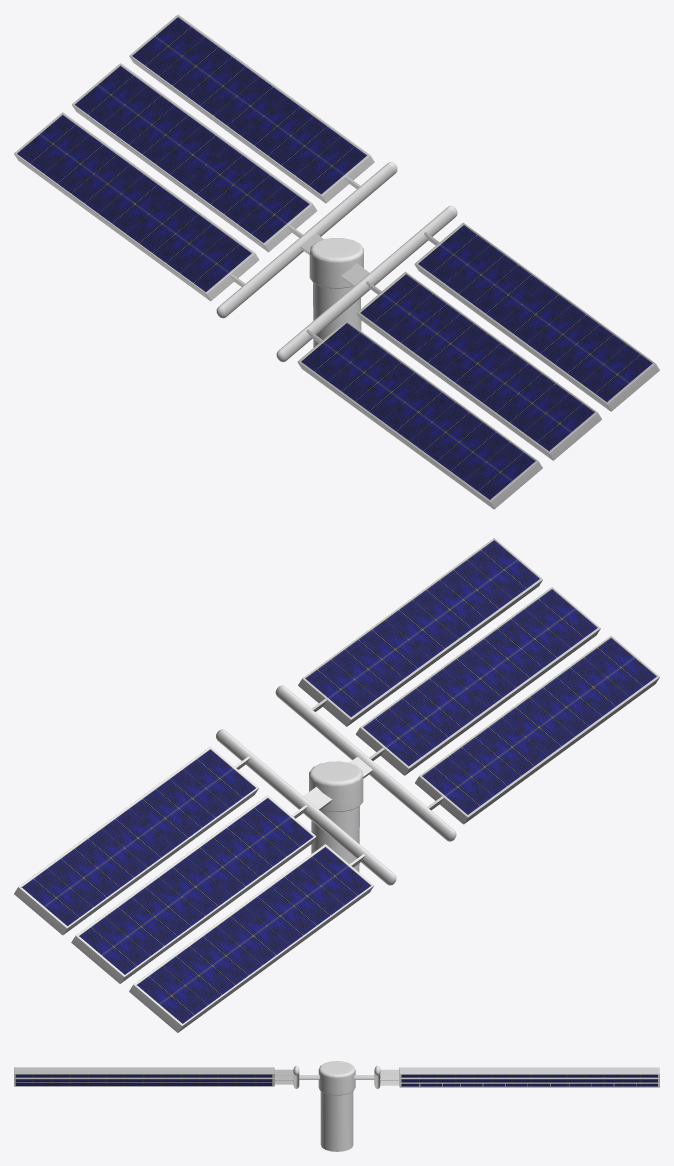
The model's file is Electrical_Pre_Dmg.fbx.
The picture shows the model from 3 angles, top to bottom: view 1: azimuth 30°, elevation 25°; view 2: azimuth 150°, elevation 25°; view 3: azimuth 270°, elevation 25°; orthographic projection. The views are drawn at different scales.
Parts seen in each view (by area): view 1: Left_Solar_Panels_Solar_Panel1_SolarPanel1, Left_Solar_Panels_Solar_Panel1_SolarPanel, Left_Solar_Panels_Solar_Panel5_SolarPanel, Right_Solar_Panels_Solar_Panel1_SolarPanel, Right_Solar_Panels_Solar_Panel3_SolarPanel, Right_Solar_Panels_Solar_Panel5_SolarPanel, Central_System, Right_Support, Left_Support; view 2: Right_Solar_Panels_Solar_Panel5_SolarPanel, Right_Solar_Panels_Solar_Panel3_SolarPanel, Right_Solar_Panels_Solar_Panel1_SolarPanel, Left_Solar_Panels_Solar_Panel1_SolarPanel1, Left_Solar_Panels_Solar_Panel5_SolarPanel, Left_Solar_Panels_Solar_Panel1_SolarPanel, Central_System, Left_Support, Right_Support; view 3: Right_Solar_Panels_Solar_Panel3_SolarPanel, Left_Solar_Panels_Solar_Panel5_SolarPanel, Central_System, Right_Solar_Panels_Solar_Panel5_SolarPanel, Left_Solar_Panels_Solar_Panel1_SolarPanel, Right_Solar_Panels_Solar_Panel1_SolarPanel, Left_Solar_Panels_Solar_Panel1_SolarPanel1, Right_Support, Left_Support.
Part boxes in pixels (<box>): Left_Solar_Panels_Solar_Panel1_SolarPanel1: <box>297,320,542,509</box>; Left_Solar_Panels_Solar_Panel1_SolarPanel: <box>356,271,601,460</box>; Left_Solar_Panels_Solar_Panel5_SolarPanel: <box>414,222,659,411</box>; Right_Solar_Panels_Solar_Panel1_SolarPanel: <box>72,63,317,252</box>; Right_Solar_Panels_Solar_Panel3_SolarPanel: <box>129,14,374,203</box>; Right_Solar_Panels_Solar_Panel5_SolarPanel: <box>14,112,259,301</box>; Central_System: <box>309,238,363,347</box>; Right_Support: <box>276,205,457,362</box>; Left_Support: <box>216,162,397,318</box>; Right_Solar_Panels_Solar_Panel5_SolarPanel: <box>129,844,373,1032</box>; Right_Solar_Panels_Solar_Panel3_SolarPanel: <box>14,746,258,935</box>; Right_Solar_Panels_Solar_Panel1_SolarPanel: <box>71,795,316,983</box>; Left_Solar_Panels_Solar_Panel1_SolarPanel1: <box>415,635,659,824</box>; Left_Solar_Panels_Solar_Panel5_SolarPanel: <box>298,538,542,726</box>; Left_Solar_Panels_Solar_Panel1_SolarPanel: <box>356,587,600,775</box>; Central_System: <box>309,761,363,872</box>; Left_Support: <box>216,729,396,885</box>; Right_Support: <box>275,685,456,841</box>; Right_Solar_Panels_Solar_Panel3_SolarPanel: <box>380,1067,659,1078</box>; Left_Solar_Panels_Solar_Panel5_SolarPanel: <box>14,1067,293,1078</box>; Central_System: <box>318,1061,355,1151</box>; Right_Solar_Panels_Solar_Panel5_SolarPanel: <box>380,1080,659,1087</box>; Left_Solar_Panels_Solar_Panel1_SolarPanel: <box>14,1076,293,1082</box>; Right_Solar_Panels_Solar_Panel1_SolarPanel: <box>380,1076,659,1082</box>; Left_Solar_Panels_Solar_Panel1_SolarPanel1: <box>14,1080,293,1086</box>; Right_Support: <box>293,1066,319,1088</box>; Left_Support: <box>354,1066,380,1088</box>.
Size of what is drawn, in the model's own units: 1153 by 962 by 5295.
2 materials, 1 textured.
